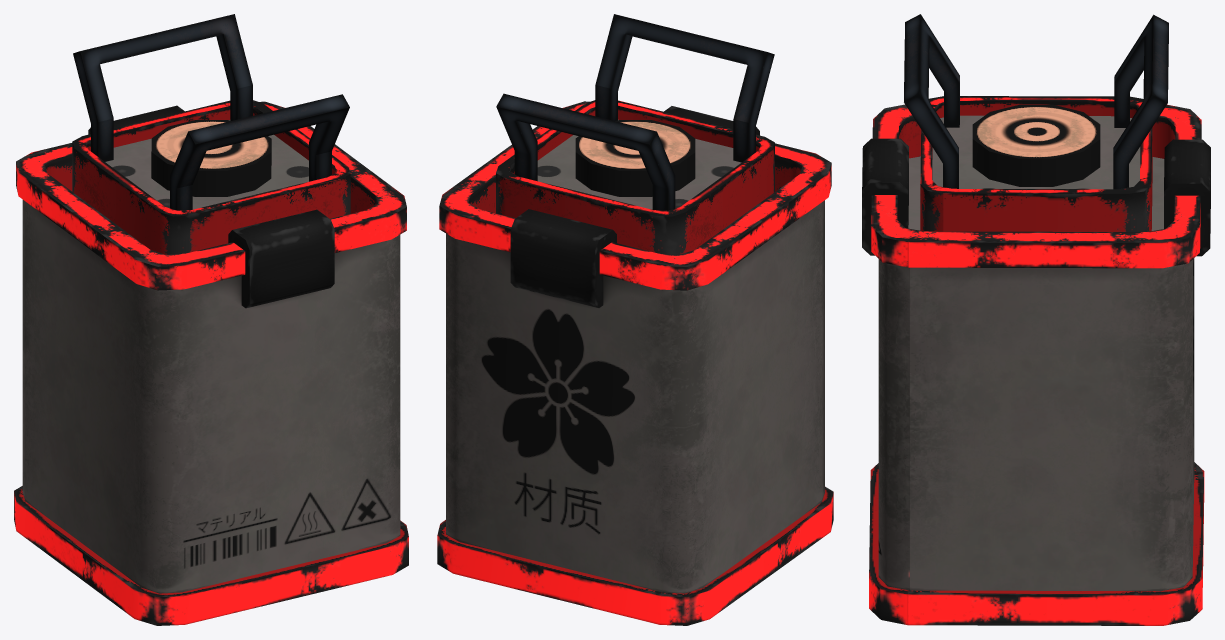
File: FUT0410025.fbx
3 views of the same model, side by side, from view 1: azimuth 30°, elevation 25°; view 2: azimuth 150°, elevation 25°; view 3: azimuth 270°, elevation 25° (orthographic). The views are drawn at different scales.
Parts seen in each view (by area): view 1: smFUT0410025; view 2: smFUT0410025; view 3: smFUT0410025.
Part boxes in pixels (x1,y1,x2,y2): smFUT0410025: (14, 14, 408, 625); smFUT0410025: (437, 14, 833, 625); smFUT0410025: (862, 14, 1210, 625).
Size of the model in its own units: 53.54 by 88.28 by 55.72.
Materials: 1 (1 with a texture image).
